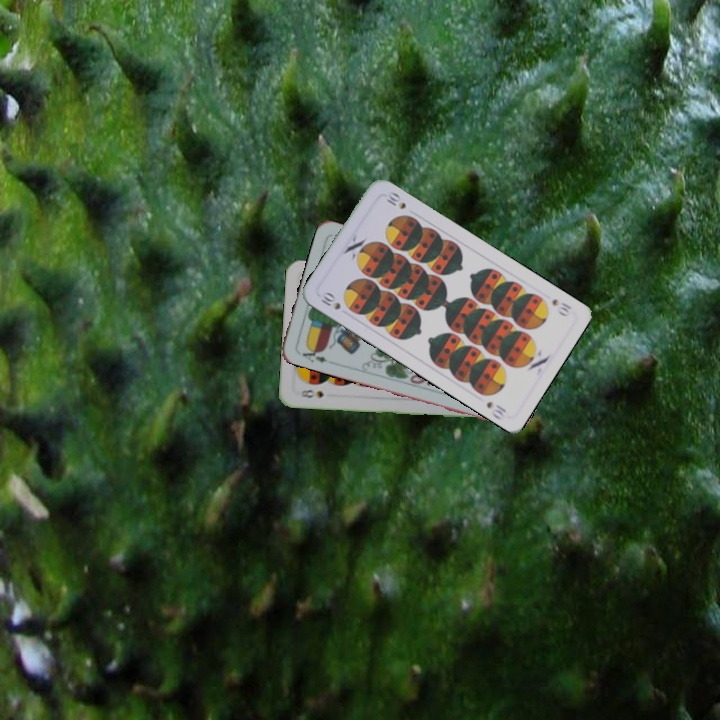EA: (298, 343, 330, 365)
S10: (316, 288, 343, 313), (548, 295, 574, 319)
S8: (297, 385, 326, 401)
